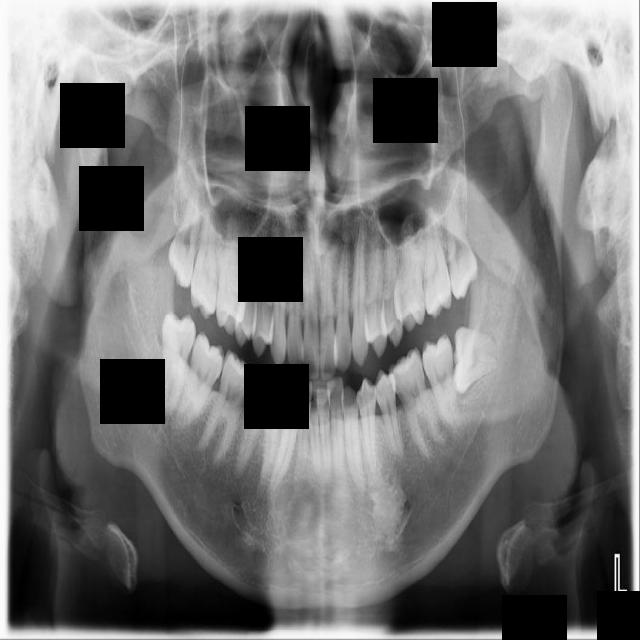3M ESPE Implant: (166, 188, 200, 289)
73: (612, 564, 620, 576)
BioHorizons Implant: (420, 204, 453, 319)
BioLife Implant: (440, 202, 482, 300)
Biomet 3i Implant: (452, 326, 498, 395)
Blue Sky Bio Implant: (419, 332, 461, 427)
Caries: (190, 192, 217, 319)
Implant: (176, 329, 230, 429)
Keystone Dental Implant: (155, 308, 198, 410)
